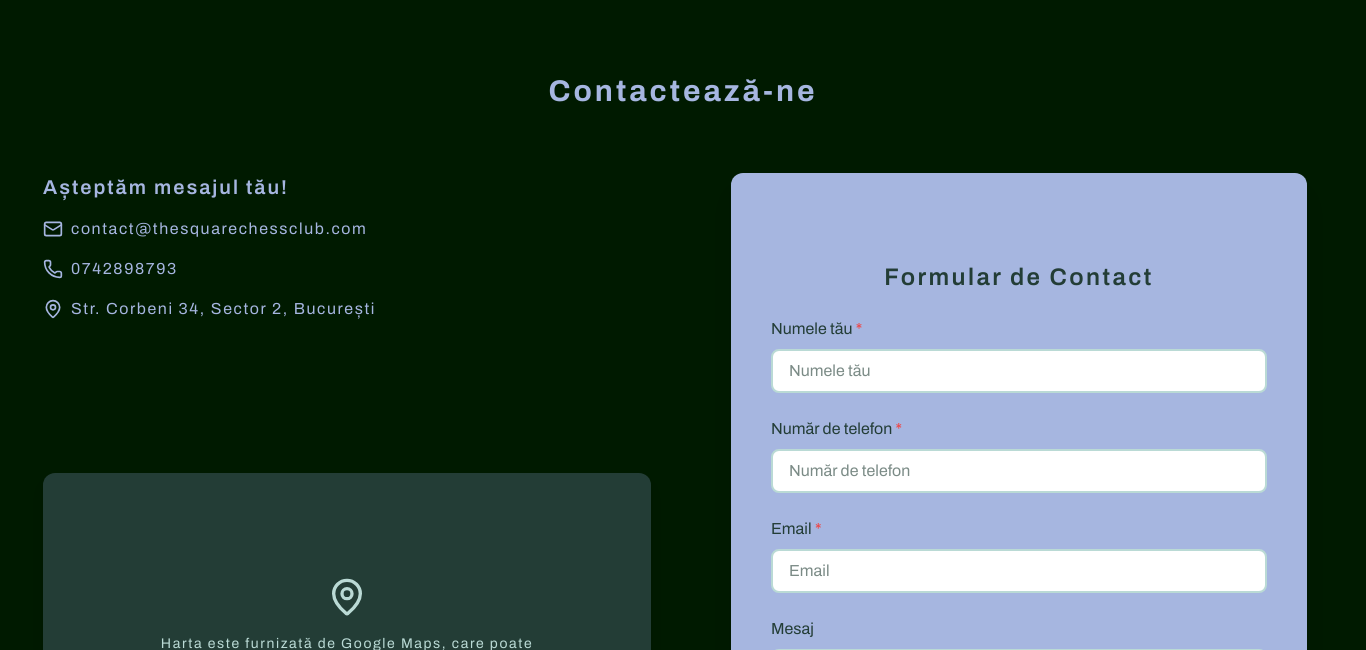
Test: Contact Form - Manual Testing Scenarios › should handle API errors gracefully
The width and height of the screenshot is (1366, 650).
Note: Fill and submit form
Type "Ion" into the field labelled "Numele tău *" at (1019, 371), box [771, 349, 1267, 393]
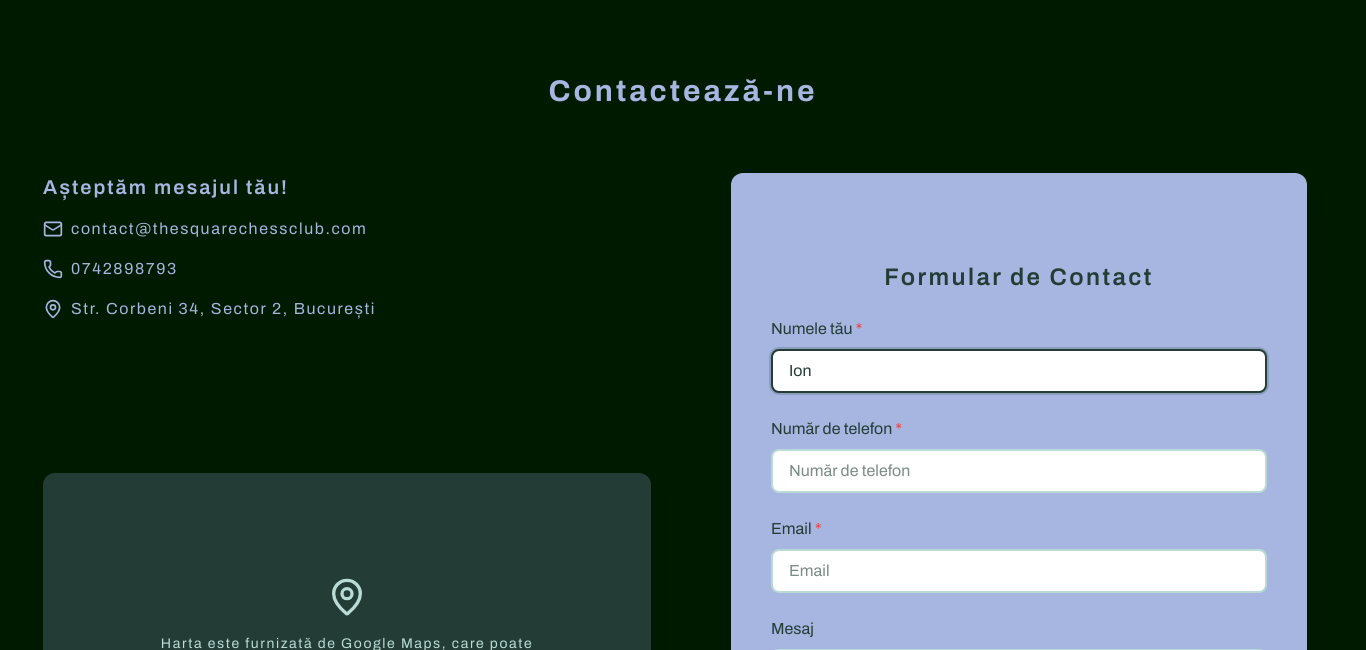
Type "0741234567" into the field labelled "Număr de telefon *" at (1019, 471), box [771, 449, 1267, 493]
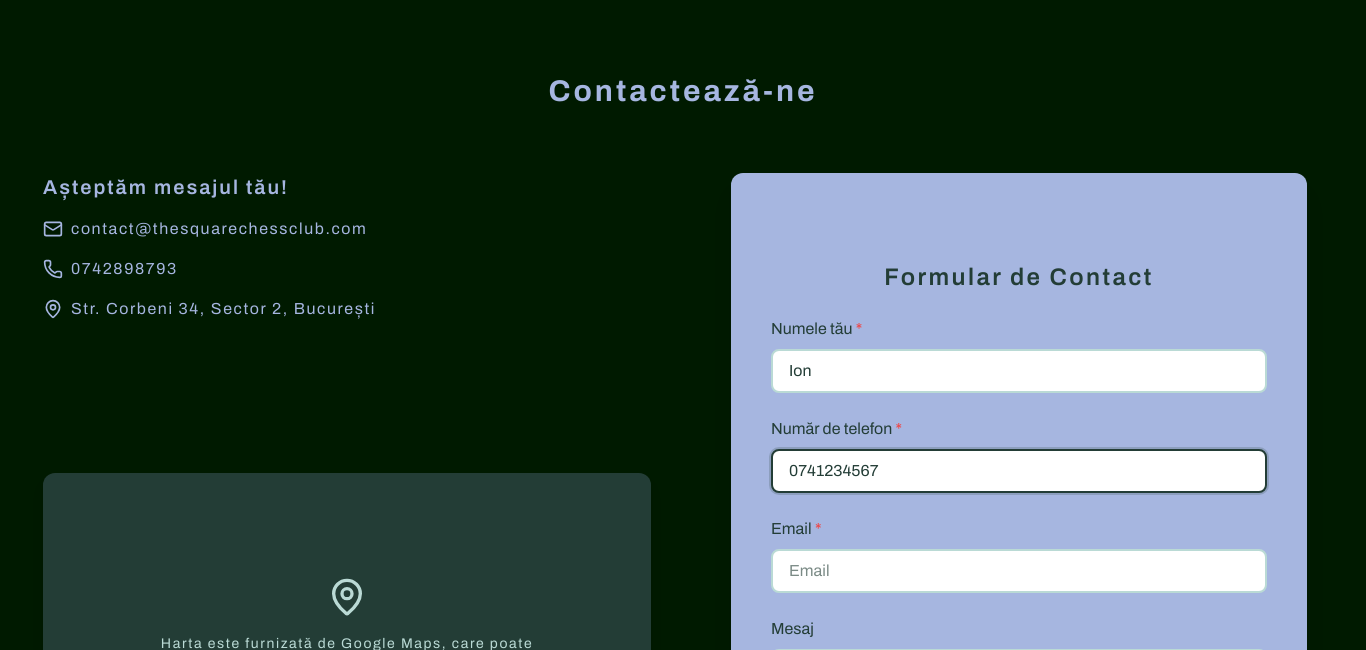
Type "ion@example.com" into the field labelled "Email *" at (1019, 571), box [771, 549, 1267, 593]
(page scrolled)
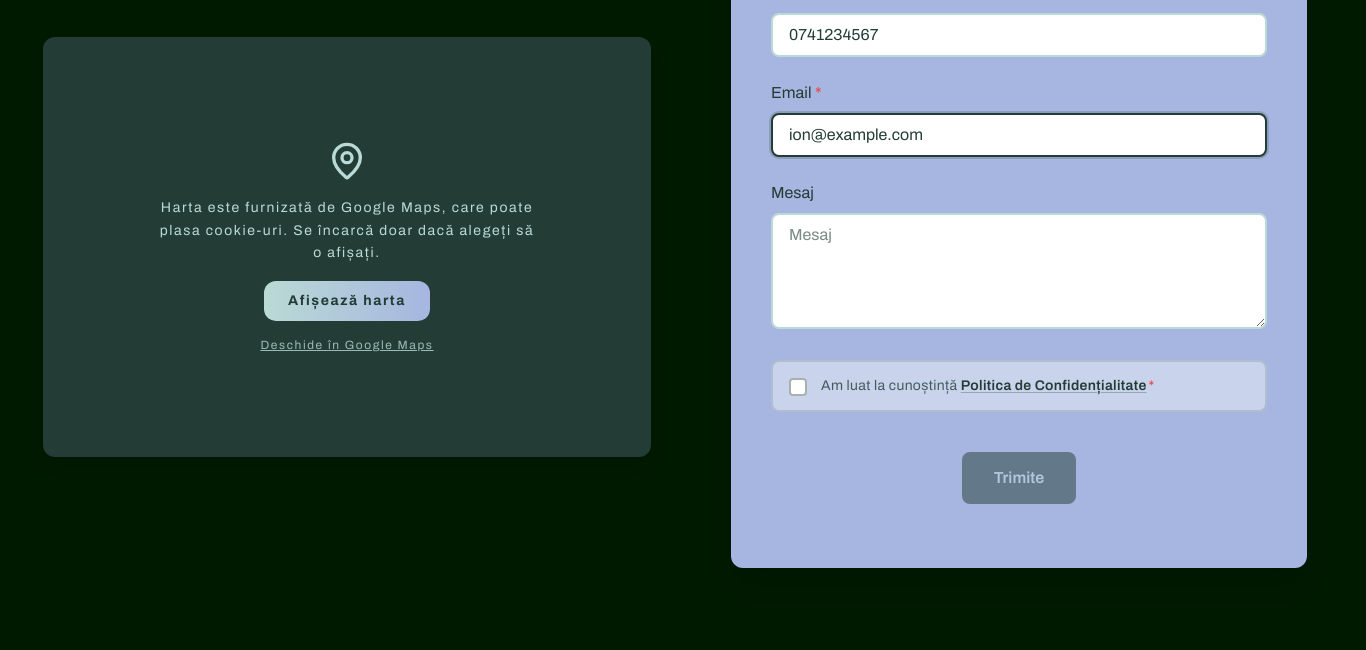
Click the checkbox labelled "Am luat la cunoștință Politica de Confidențialitate *" at (1019, 386), box [771, 360, 1267, 412]
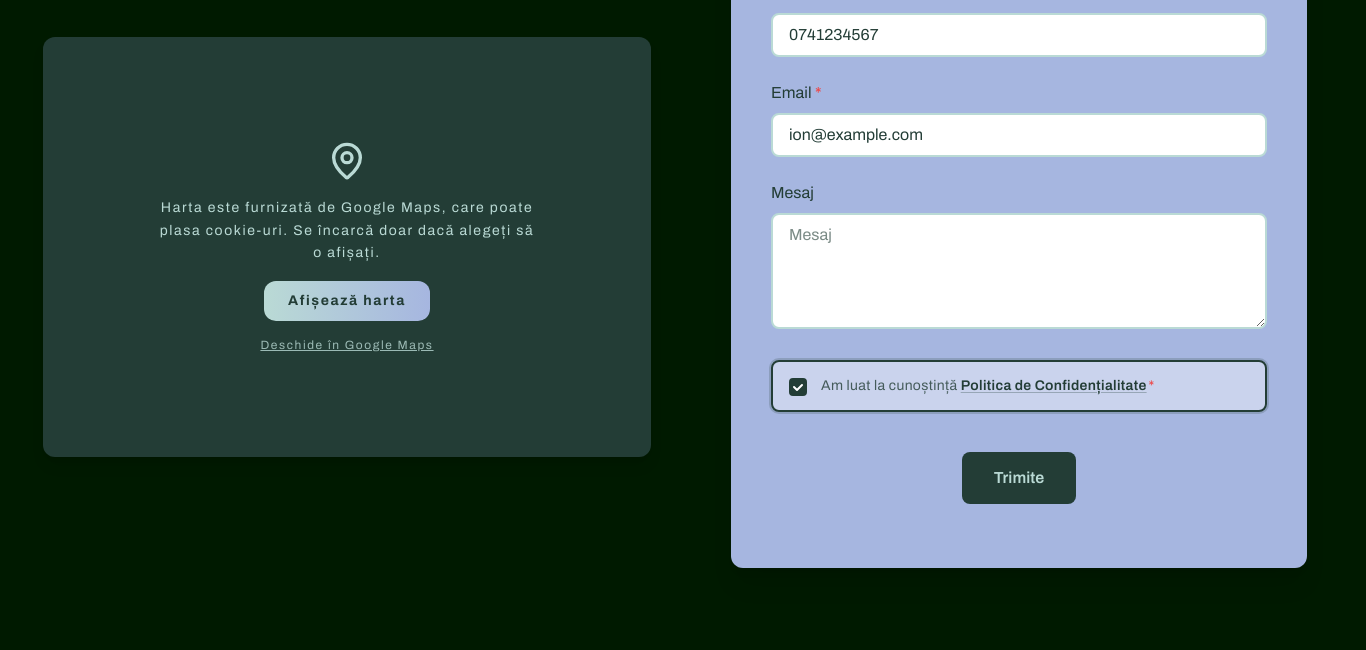
Click the button "Trimite" at (1019, 478), box [962, 452, 1076, 504]
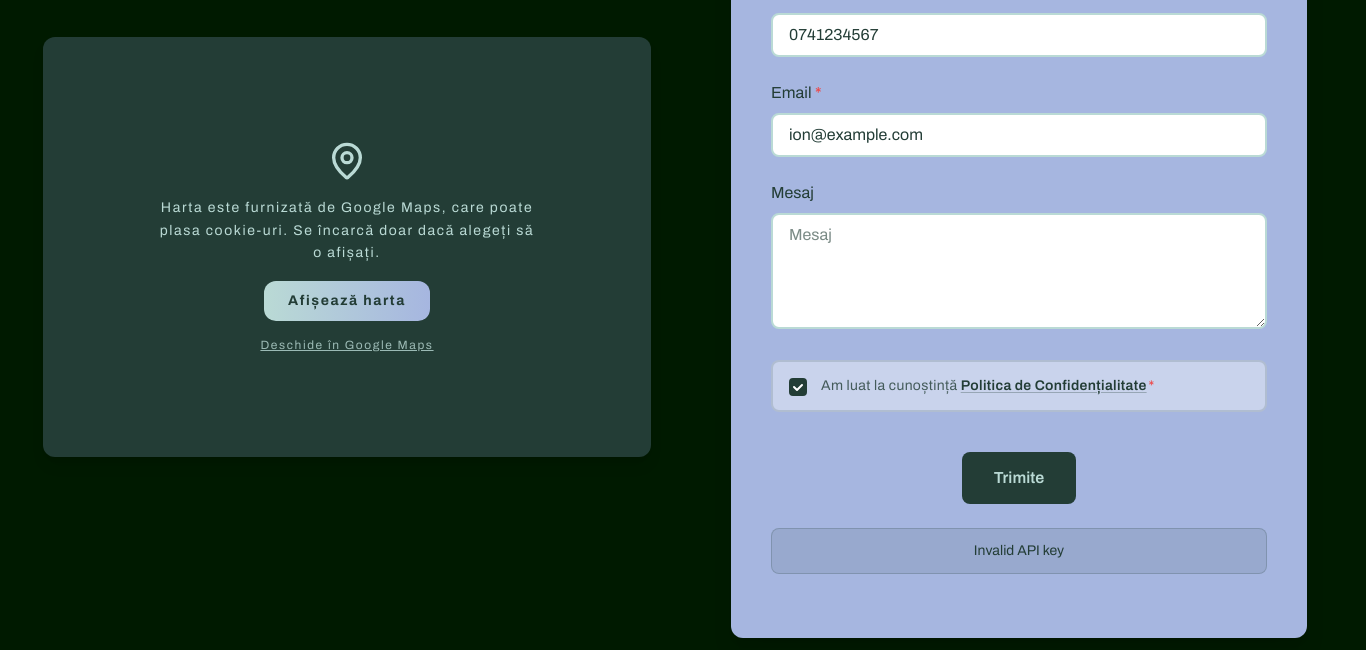
Expected: the message reads "Invalid API key", [974, 543, 1064, 558]
